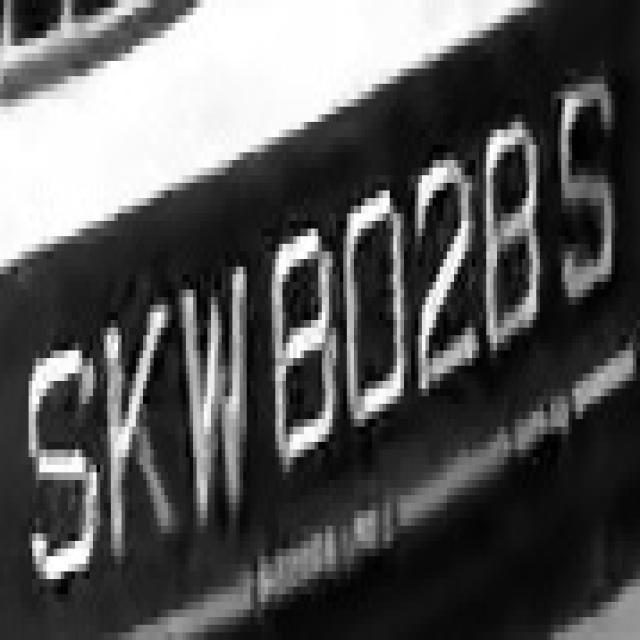0: (336, 175, 418, 457)
2: (408, 137, 493, 412)
8: (264, 213, 346, 472), (476, 99, 544, 358)
K: (89, 282, 179, 556)
S: (22, 320, 100, 617), (547, 46, 622, 320)
W: (168, 244, 261, 548)
